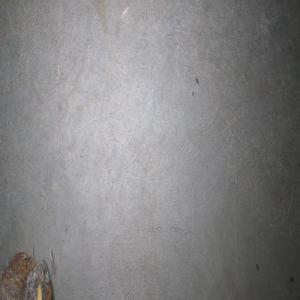Rock: (0, 244, 52, 300)
